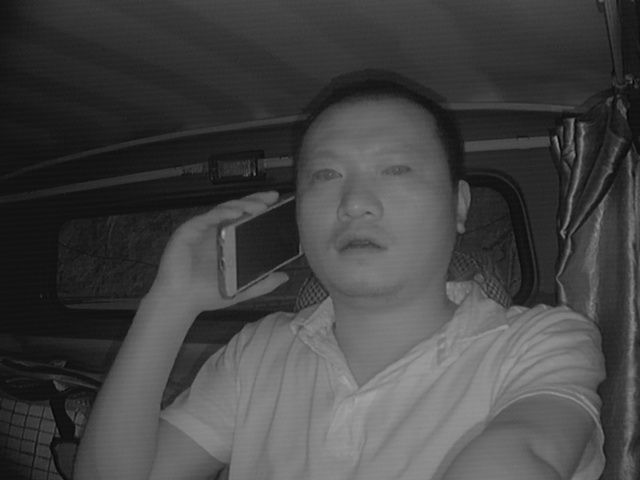hand: (161, 190, 288, 306)
